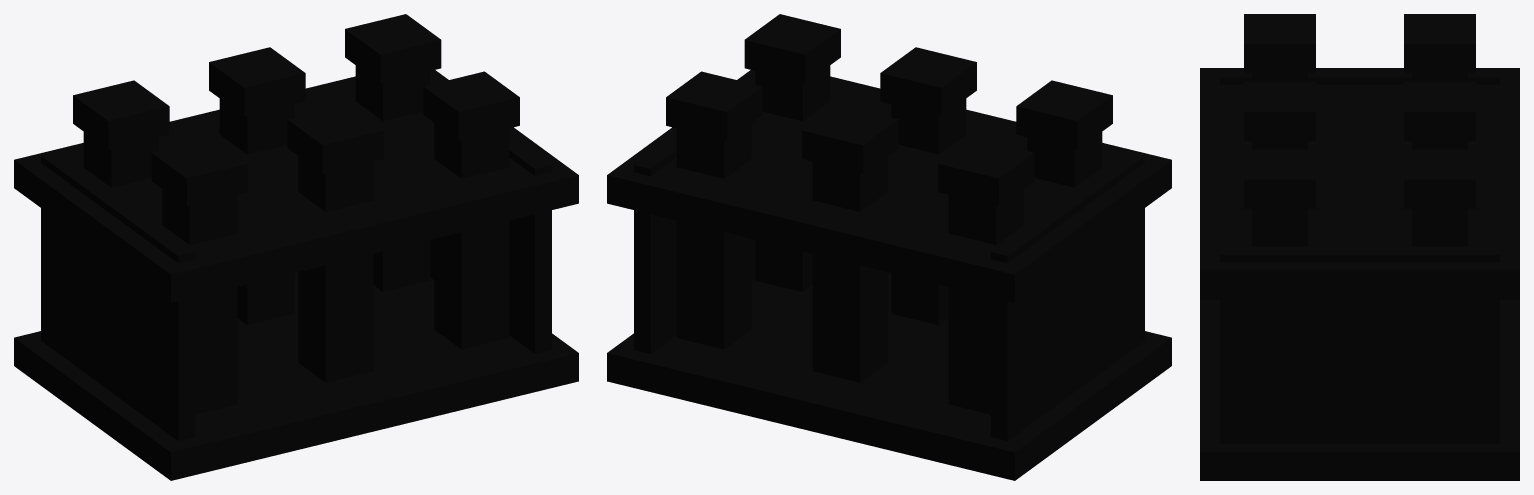
The model's file is lab_sample_rack.obj.
3 views of the same model, side by side, from view 1: azimuth 30°, elevation 25°; view 2: azimuth 150°, elevation 25°; view 3: azimuth 270°, elevation 25° (orthographic).
Size of the model in its own units: 0.875 by 0.5688 by 0.5833.
